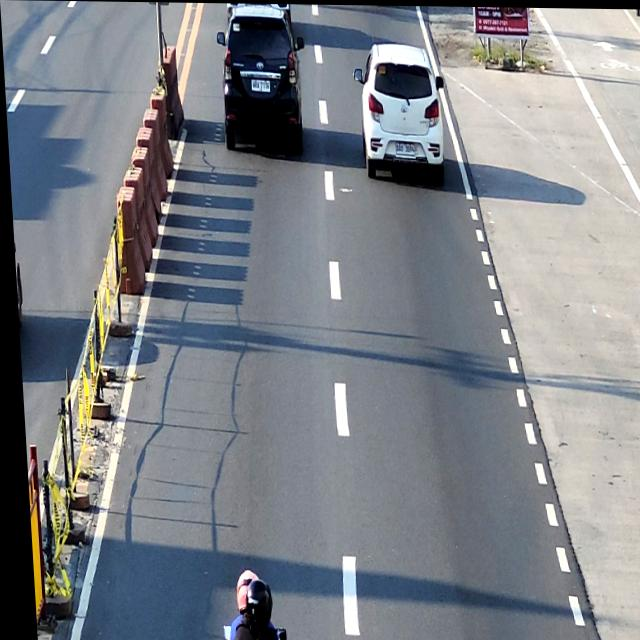Car: (214, 4, 309, 154), (352, 42, 448, 186)
License-Plate: (250, 78, 270, 91), (393, 141, 414, 153)
